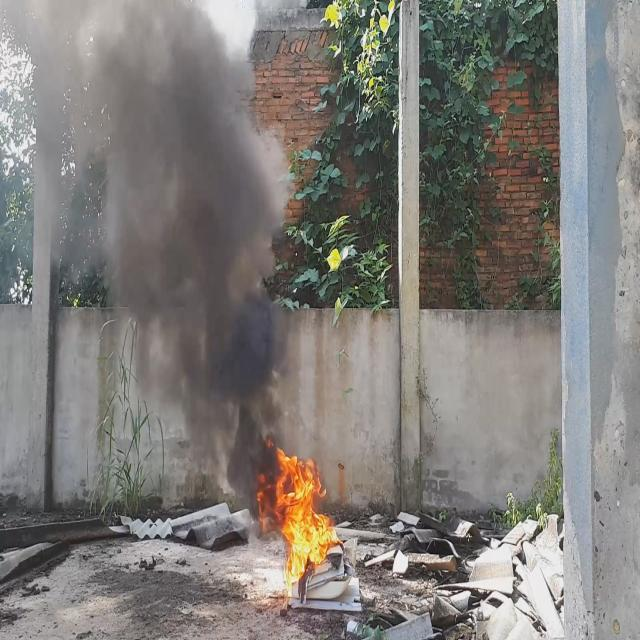Fire: (255, 438, 338, 591)
Smoke: (0, 0, 286, 532)
